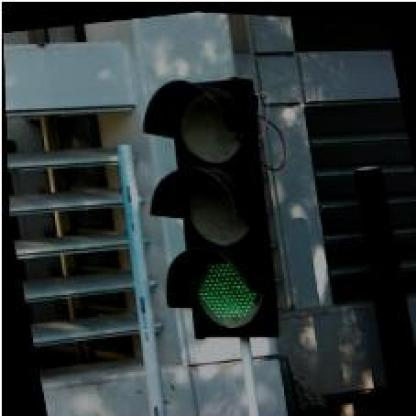green: (122, 65, 298, 346)
